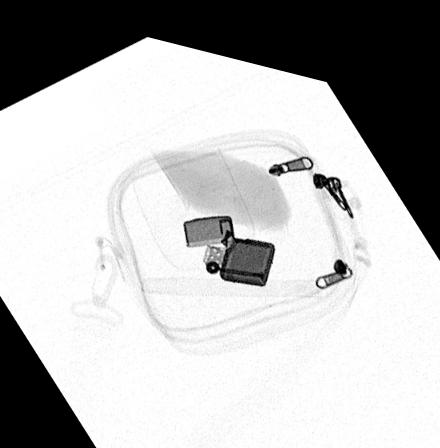Lighter: (182, 204, 274, 273)
